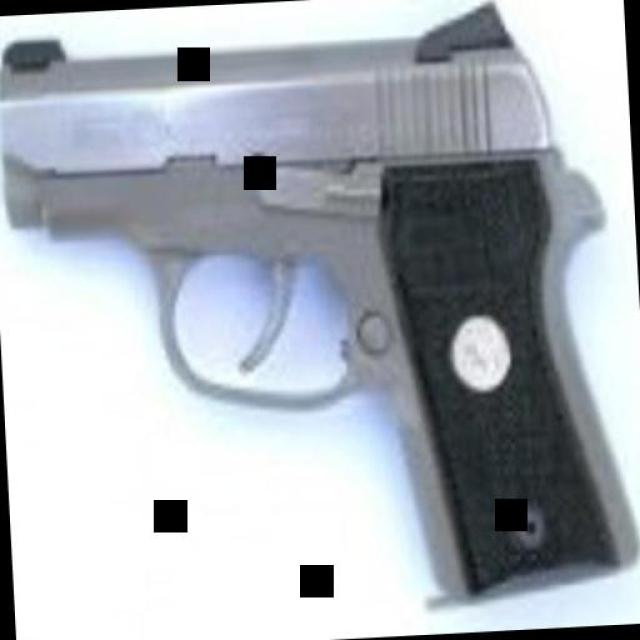gun: (7, 0, 638, 621)
